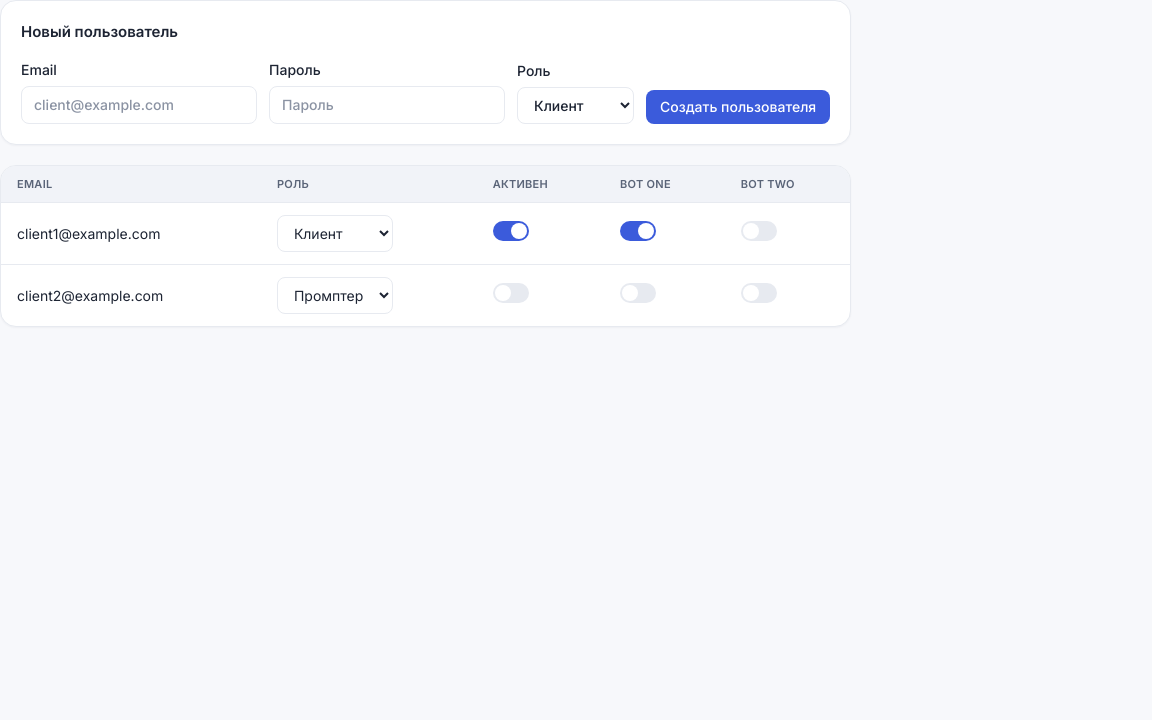
Test: only marks the empty field invalid when just one of email/password is filled
The width and height of the screenshot is (1152, 720).
Step 1. Type "new@example.com" into the field labelled "Email" → x=139, y=104, box [21,86,257,124]
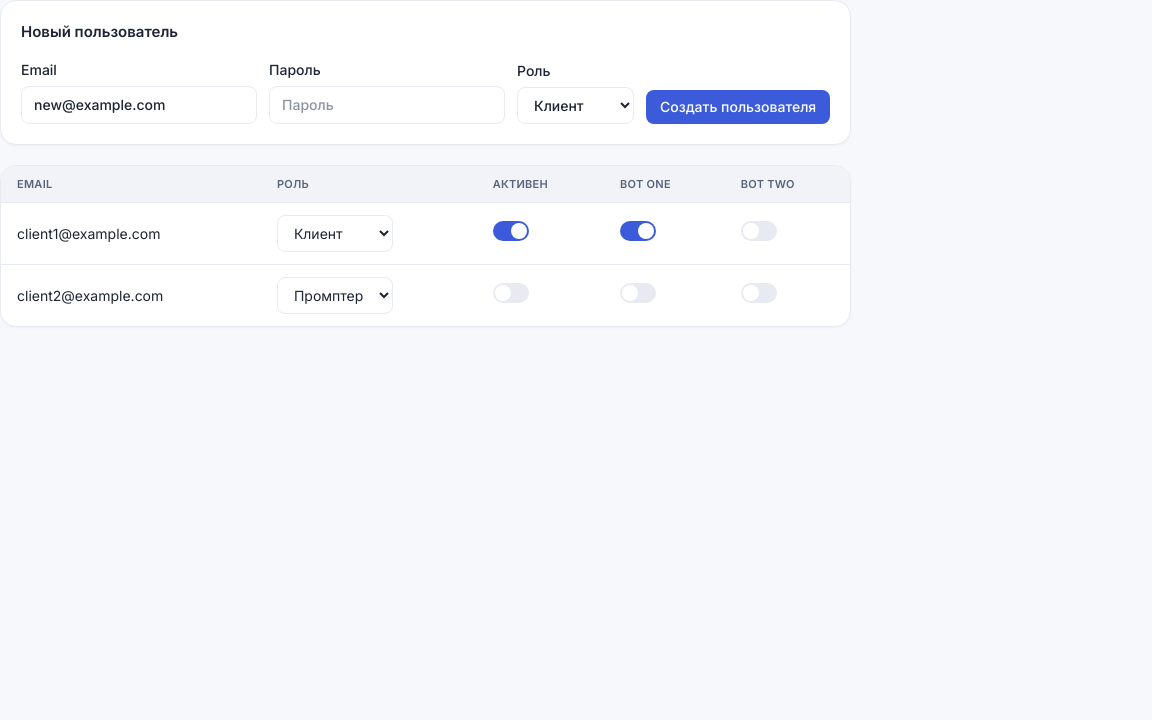
Step 2. Click the button "Создать пользователя" → x=738, y=107, box [646,90,830,124]
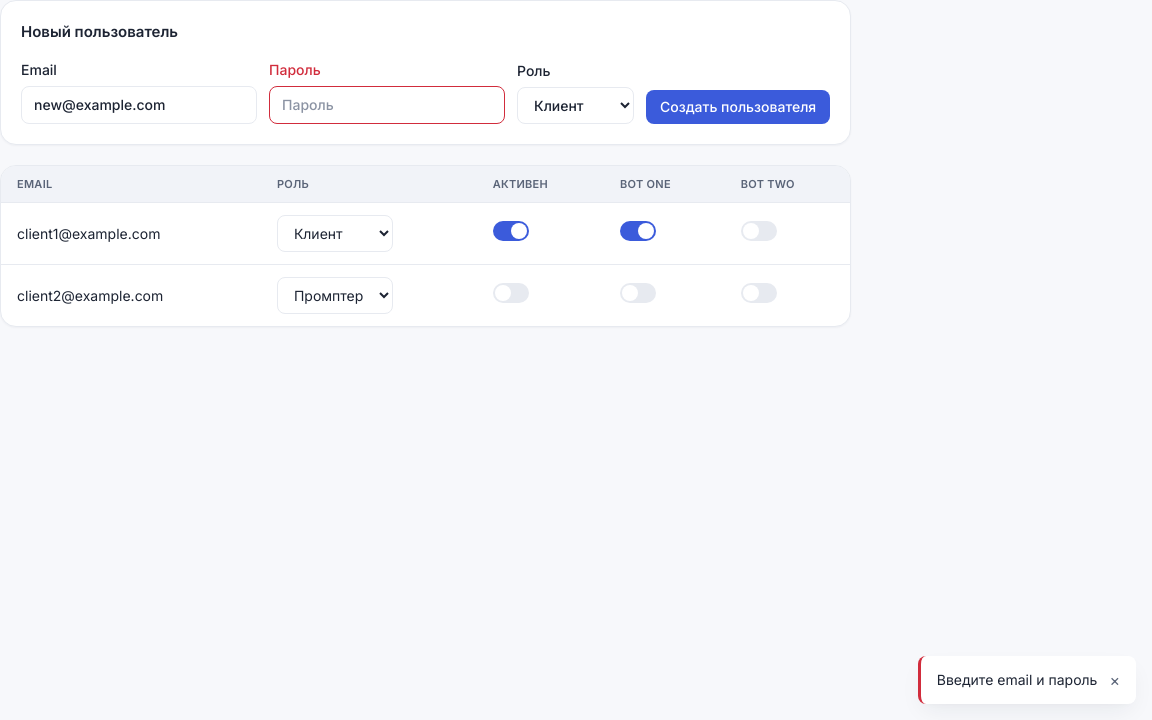
Expected: the message "Введите email и пароль ×" is shown, [918,656,1136,704]
